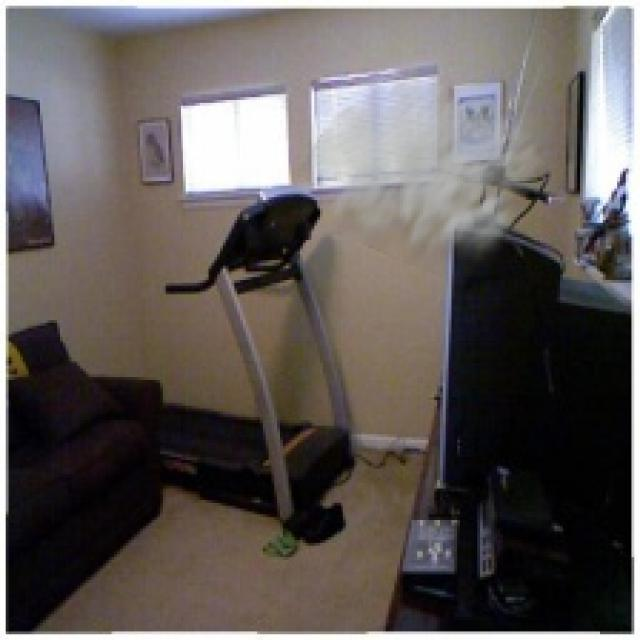Smoke: (294, 66, 557, 292)
